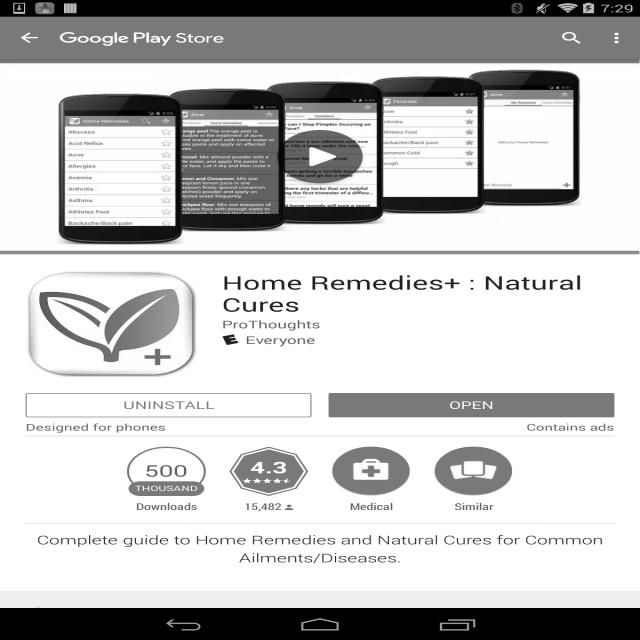Button: (26, 393, 312, 417), (328, 393, 614, 417), (222, 447, 316, 512), (324, 447, 418, 512), (426, 447, 520, 512)
ImageButton: (0, 17, 60, 59)
ImageView: (0, 59, 640, 254), (26, 270, 196, 377), (264, 121, 376, 192), (332, 447, 411, 496), (434, 447, 513, 496), (60, 30, 224, 46), (597, 22, 640, 54), (26, 607, 51, 623), (222, 334, 239, 345), (285, 505, 293, 510)
TextView: (0, 531, 640, 578), (222, 270, 614, 317), (77, 607, 614, 625), (25, 421, 166, 433), (546, 22, 597, 54), (324, 496, 418, 513), (426, 496, 520, 513), (120, 496, 213, 513), (222, 317, 320, 331), (526, 421, 614, 433), (245, 333, 316, 347), (144, 462, 188, 481), (250, 456, 288, 478), (244, 496, 282, 513), (133, 484, 200, 493)
